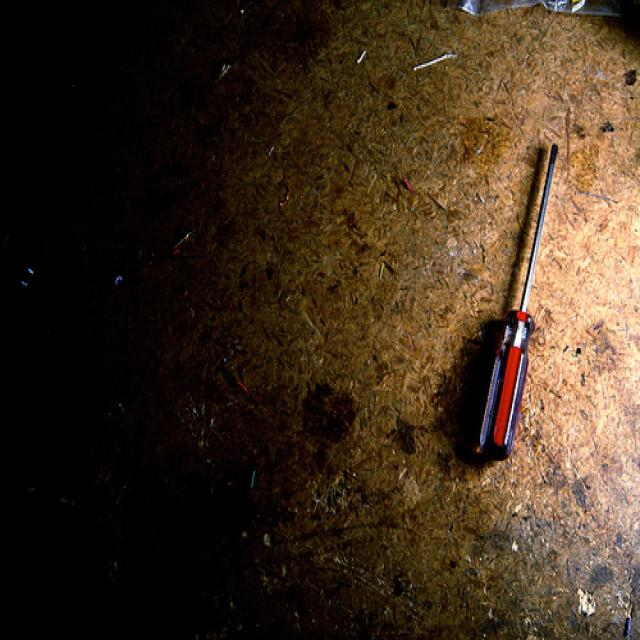screw_driver: (480, 143, 558, 463)
